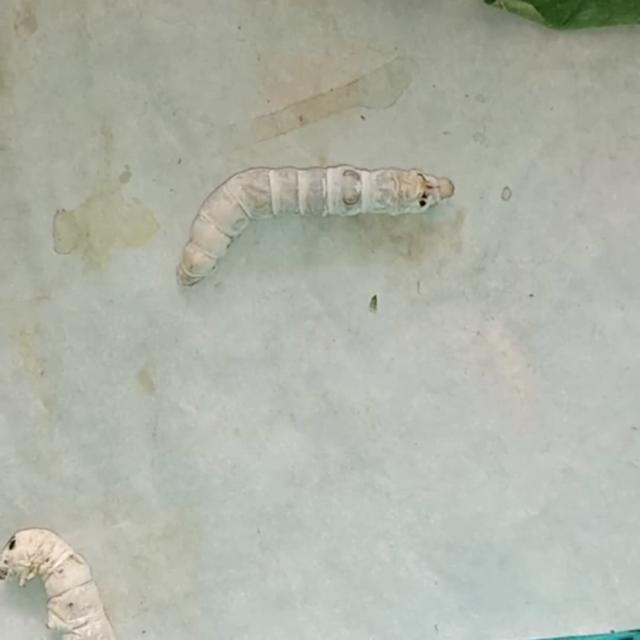Grasserie: (163, 124, 482, 300)
